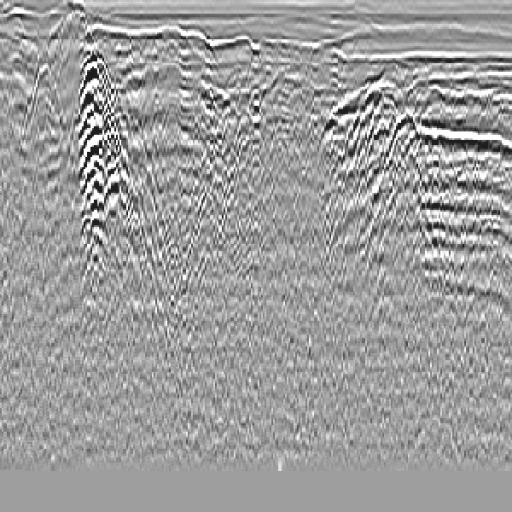metalic: (63, 35, 125, 322)
